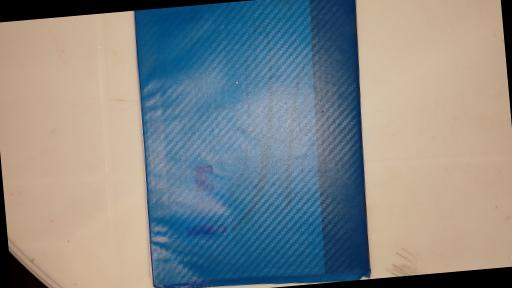notebook: (133, 0, 378, 288)
